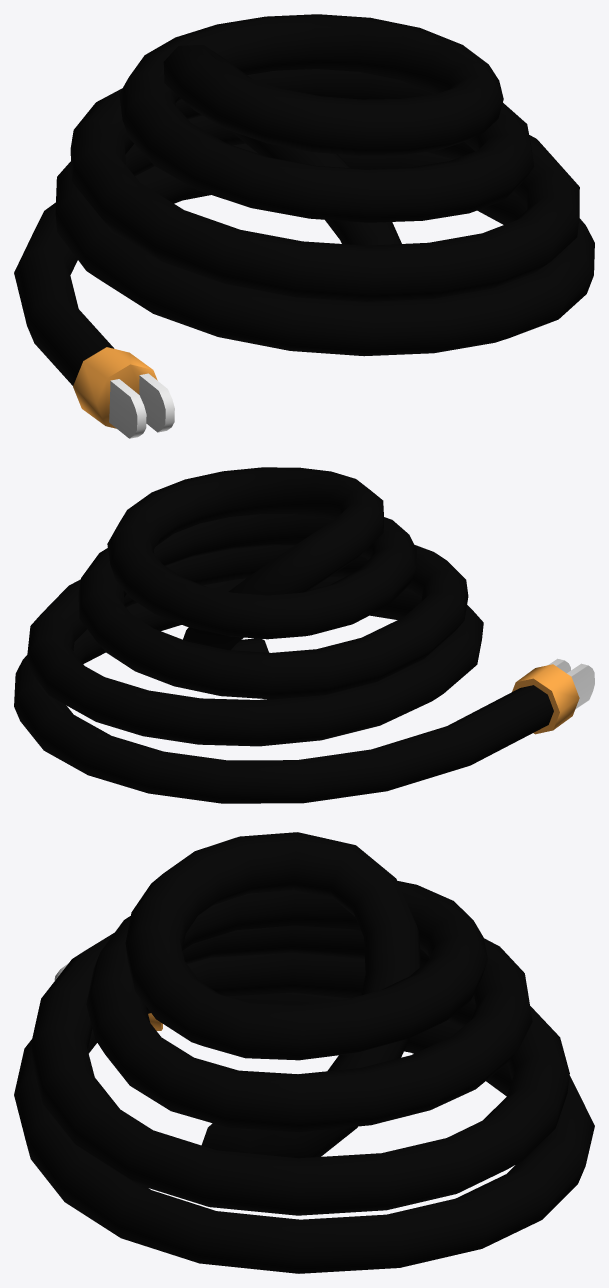
Rendered from Cable_Coil.fbx.
3 views of the same model, one above another, from view 1: azimuth 30°, elevation 25°; view 2: azimuth 150°, elevation 25°; view 3: azimuth 270°, elevation 25° (orthographic). The views are drawn at different scales.
Parts seen in each view (by area): view 1: BezierCurve; view 2: BezierCurve; view 3: BezierCurve.
Part boxes in pixels (x1,y1,x2,y2): BezierCurve: (14, 14, 594, 438); BezierCurve: (14, 467, 594, 803); BezierCurve: (14, 832, 594, 1273).
Bounding box in the file's own units: 0.8779 × 0.4036 × 0.7712.
